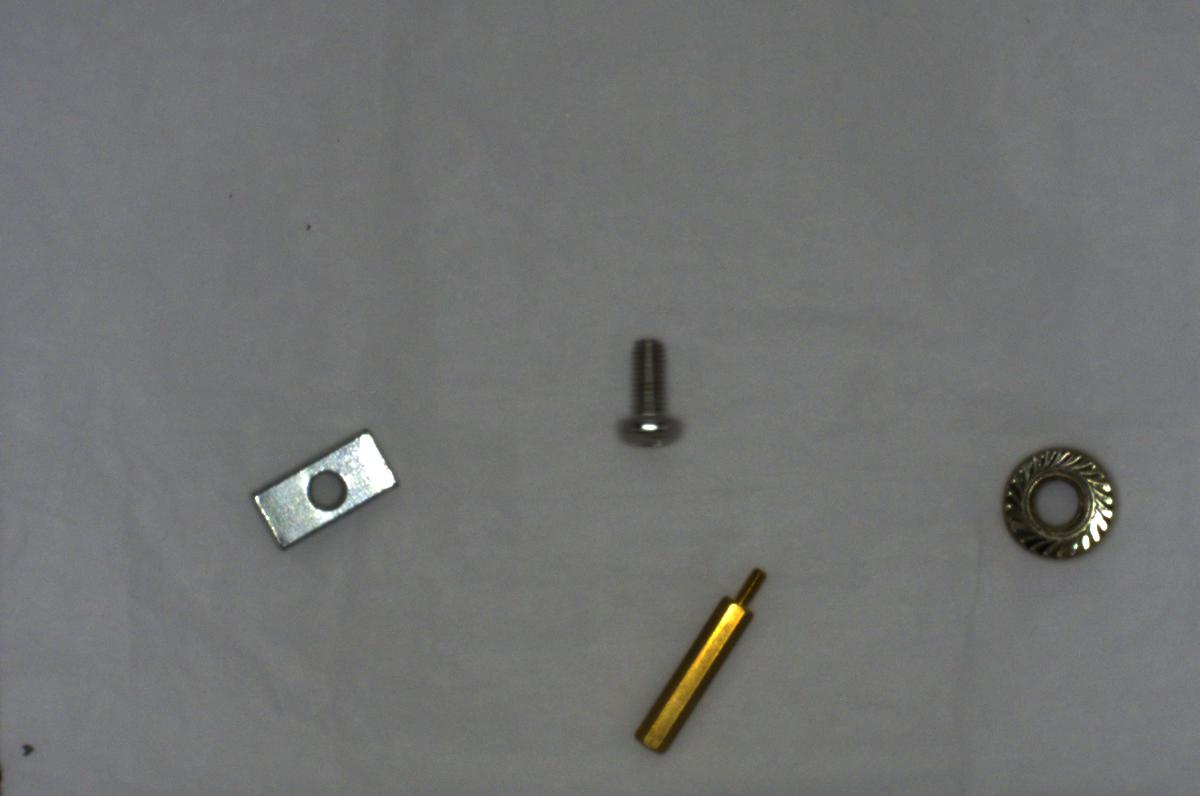Flange nut: (995, 442, 1124, 566)
Hexagon pillar: (625, 556, 773, 755)
Rectangular nut: (245, 422, 402, 555)
Round head screw: (615, 330, 686, 454)
